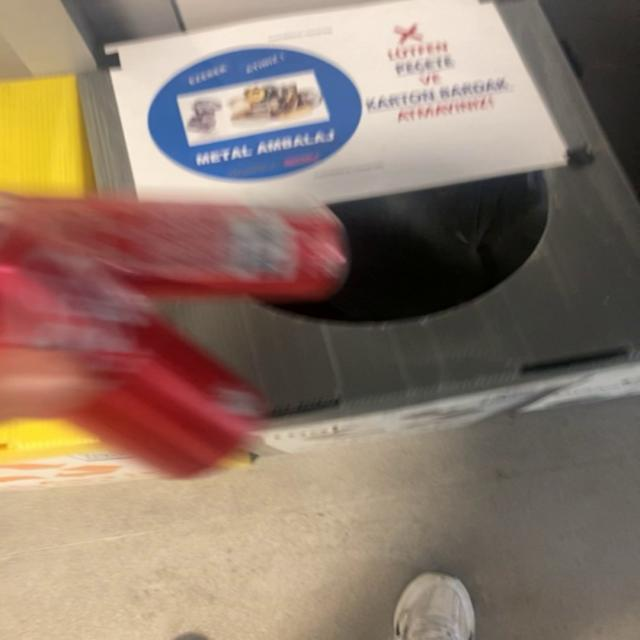bin: (76, 0, 638, 420)
metal: (0, 194, 345, 477)
